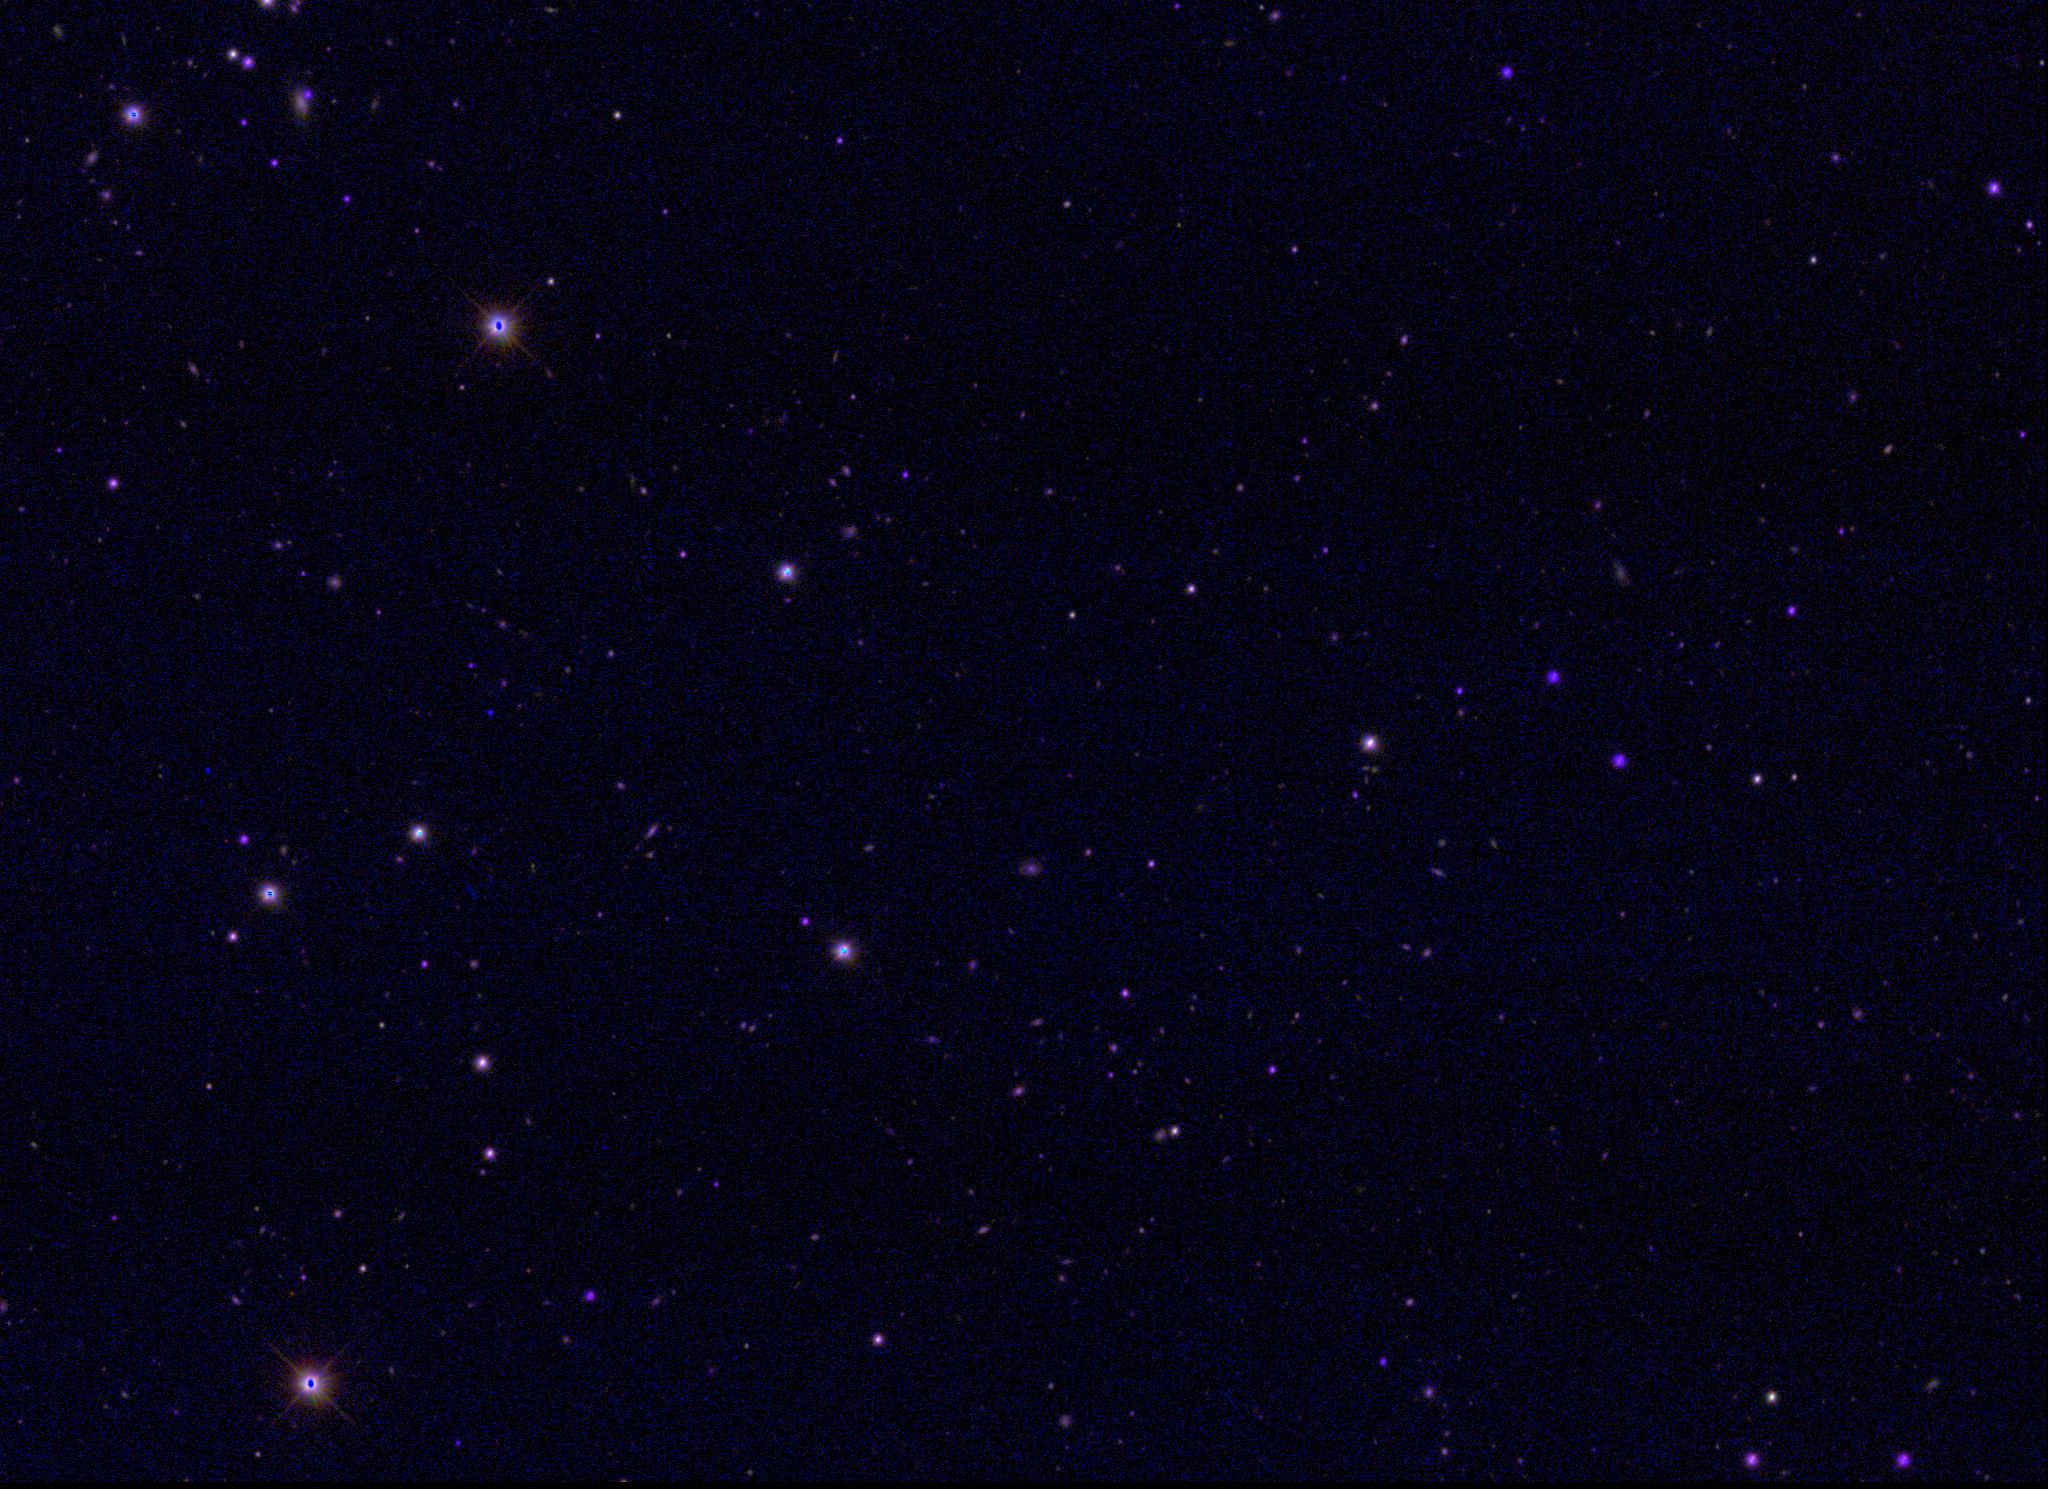L: (483, 706, 498, 721)
